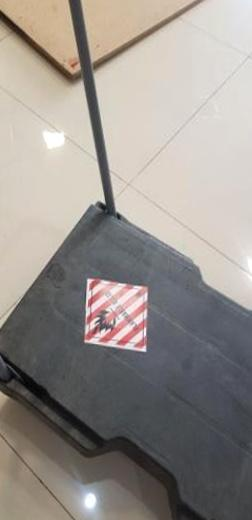flammable-solid: (85, 279, 149, 354)
